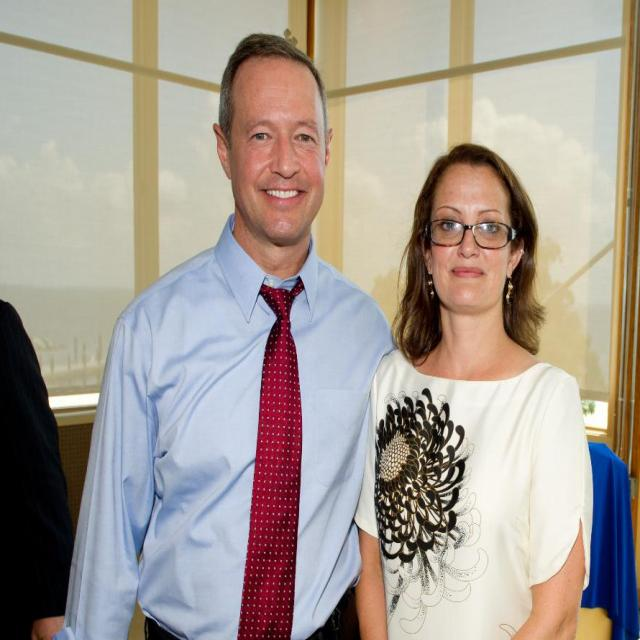Glasses: (424, 210, 530, 258)
